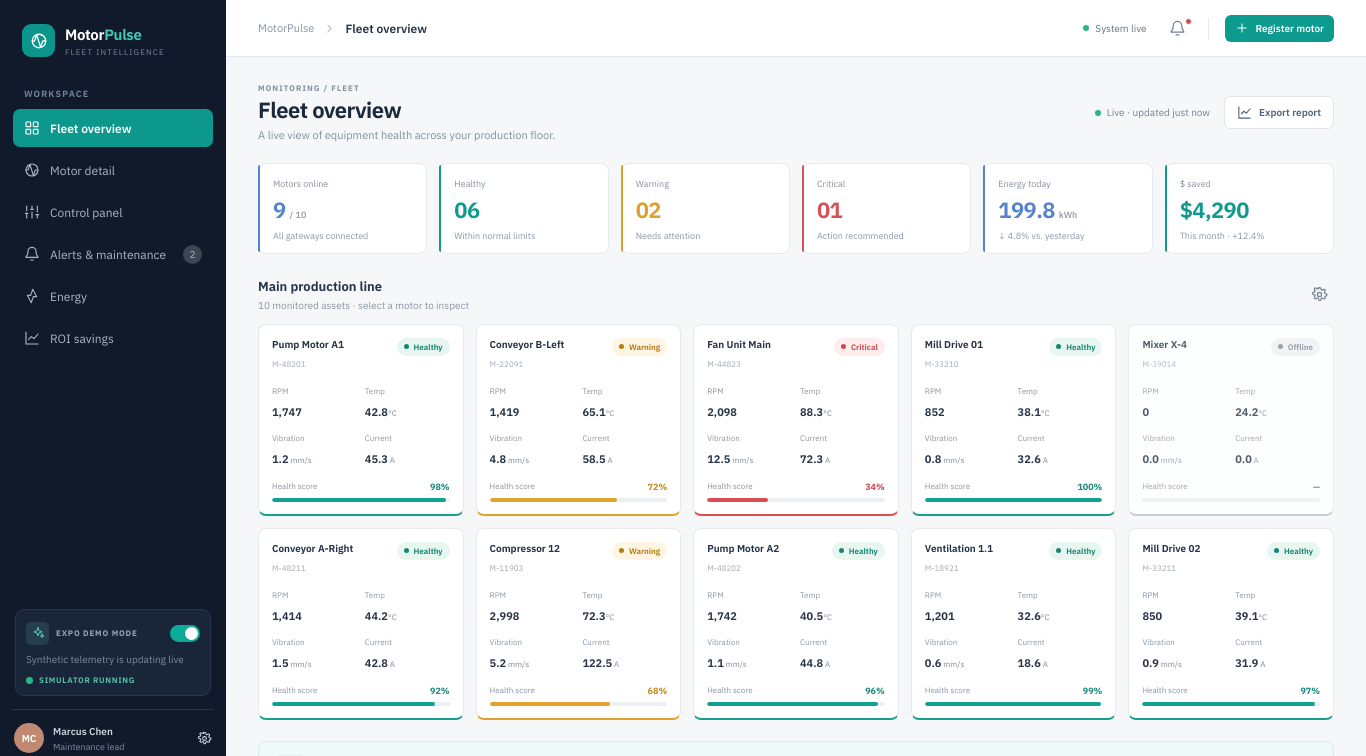
requires confirmation before an emergency stop and then stops the fleet
Click the button "Control panel" at (113, 212), box [13, 193, 213, 231]
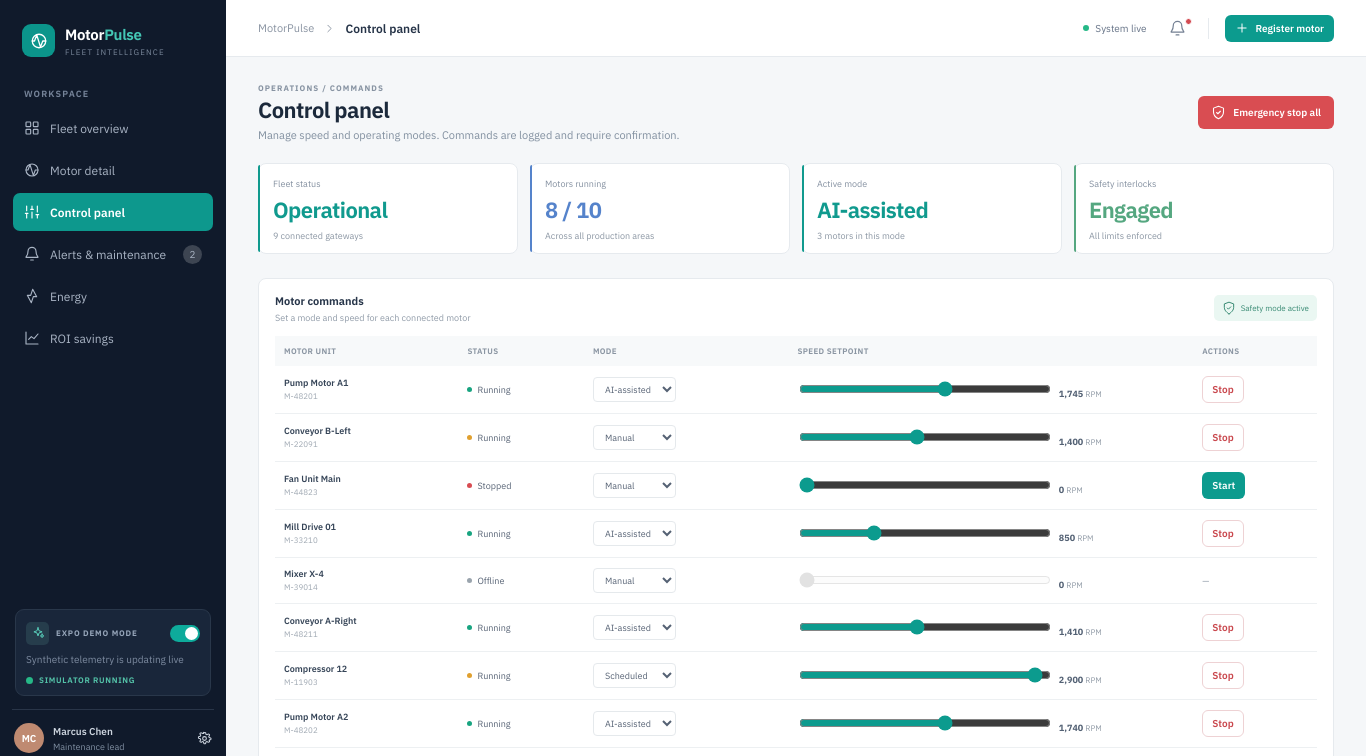
Click the button "Emergency stop all" at (1266, 113), box [1198, 96, 1334, 129]
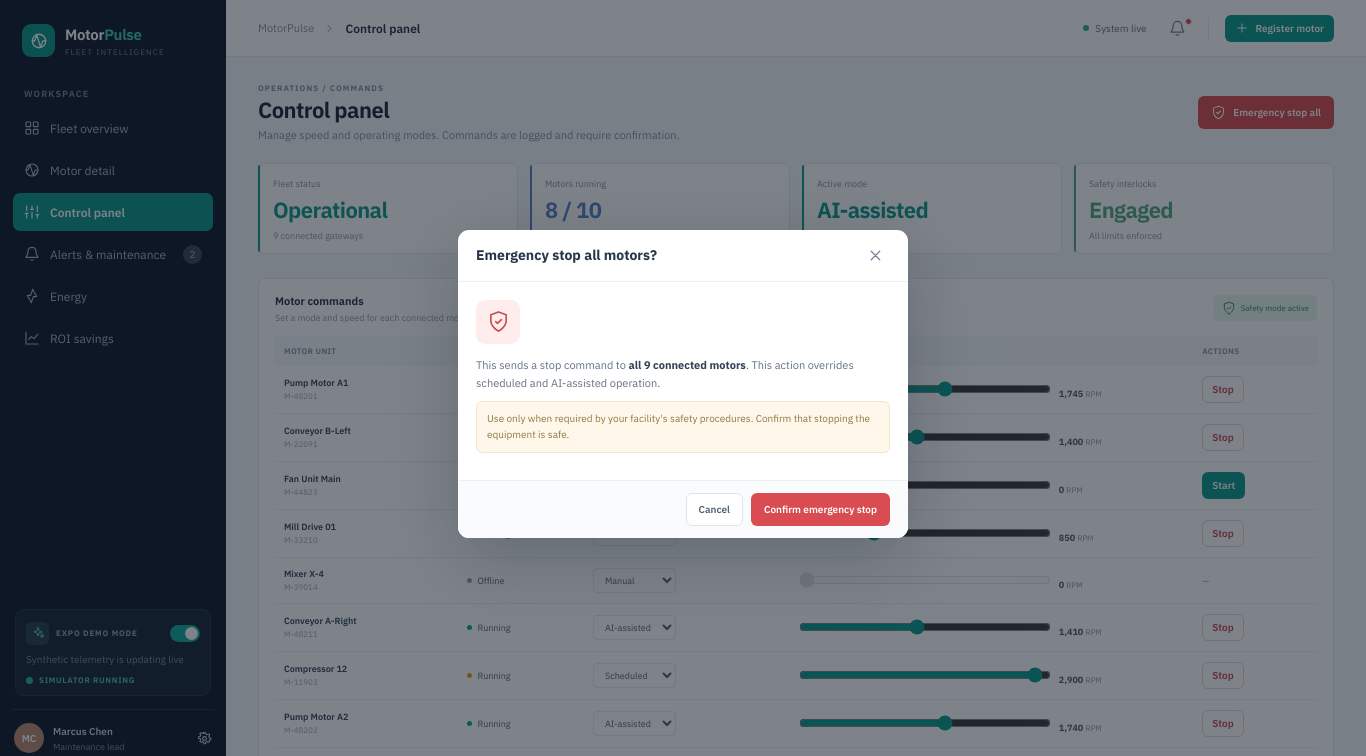
Click the button "Confirm emergency stop" at (820, 510), box [751, 493, 890, 526]
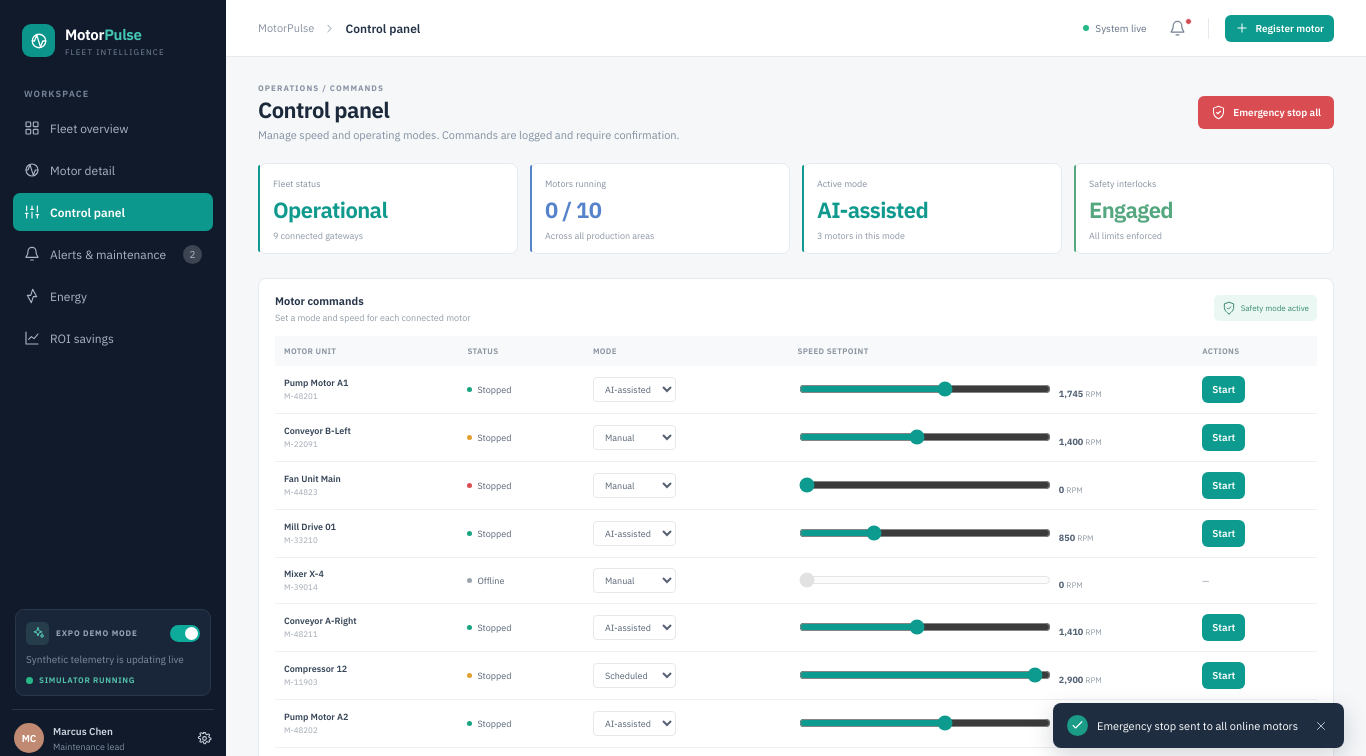
Expected: the text "0 / 10" is shown, [545, 195, 601, 224]
Expected: the message shows "Emergency stop sent", [1097, 718, 1298, 732]
